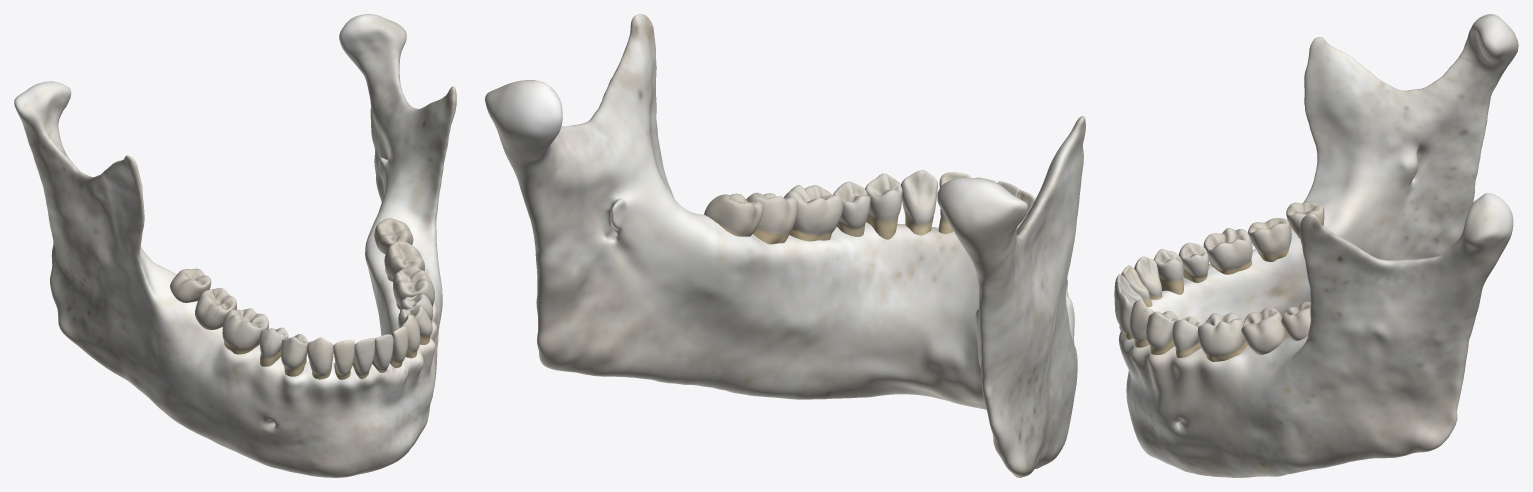
The model's file is mandible.glb.
The picture shows the model from 3 angles, left to right: view 1: azimuth 30°, elevation 25°; view 2: azimuth 150°, elevation 25°; view 3: azimuth 270°, elevation 25°; orthographic projection. The views are drawn at different scales.
Parts seen in each view (by area): view 1: Object_2, Object_16, Object_19, Object_17, Object_4, Object_18, Object_6, Object_3, Object_13, Object_15, Object_10, Object_8 (+4 smaller); view 2: Object_2, Object_17, Object_12, Object_5, Object_3, Object_18, Object_14; view 3: Object_2, Object_17, Object_16, Object_18, Object_19, Object_5, Object_6, Object_15, Object_14, Object_3, Object_13, Object_12 (+3 smaller).
Part boxes in pixels (x1,y1,x2,y2): Object_2: (14,14,456,477); Object_16: (222,308,268,354); Object_19: (195,288,236,329); Object_17: (393,265,434,309); Object_4: (170,268,211,302); Object_18: (384,241,424,281); Object_6: (281,334,307,376); Object_3: (374,218,413,254); Object_13: (307,337,333,379); Object_15: (259,327,288,366); Object_10: (333,340,354,379); Object_8: (352,338,374,379); Object_2: (485,14,1085,477); Object_17: (783,185,843,241); Object_12: (901,170,937,235); Object_5: (865,173,902,239); Object_3: (704,193,763,236); Object_18: (746,192,797,244); Object_14: (833,181,870,236); Object_2: (1118,14,1518,477); Object_17: (1197,313,1247,361); Object_16: (1203,228,1252,274); Object_18: (1241,307,1286,354); Object_19: (1248,218,1291,261); Object_5: (1146,311,1178,354); Object_6: (1153,249,1183,294); Object_15: (1178,242,1208,282); Object_14: (1172,316,1202,357); Object_3: (1281,301,1310,340); Object_13: (1134,256,1162,299); Object_12: (1129,299,1153,347).
Bounding box in the file's own units: 10.74 × 8.31 × 9.
Materials: 9 (9 with a texture image).
